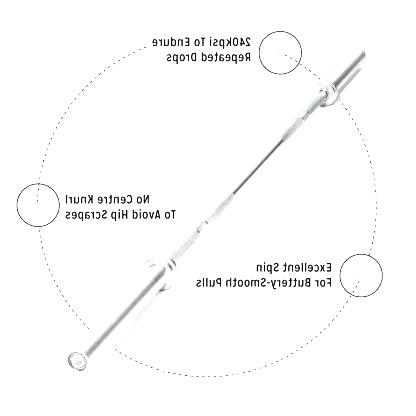Barbell: (60, 345, 94, 380)
